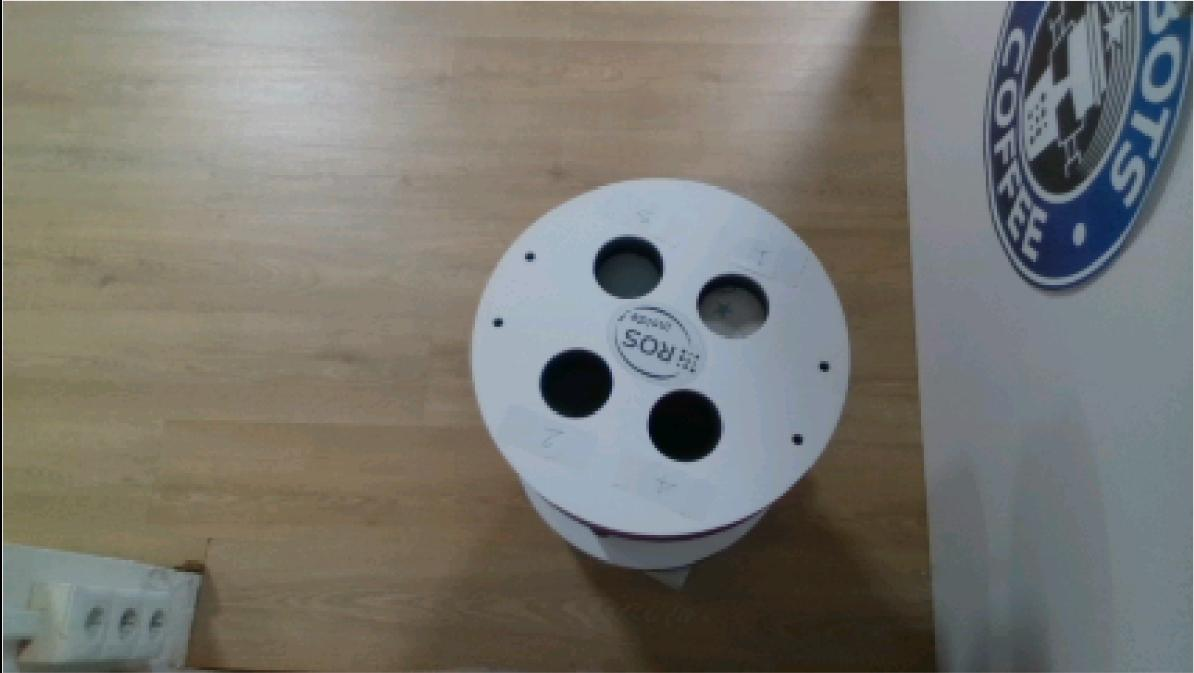hole: (537, 344, 618, 421), (644, 388, 727, 462), (591, 229, 666, 302), (696, 270, 772, 341)
